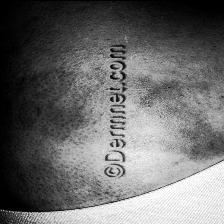Toxin: (127, 71, 223, 158), (5, 66, 102, 136)
